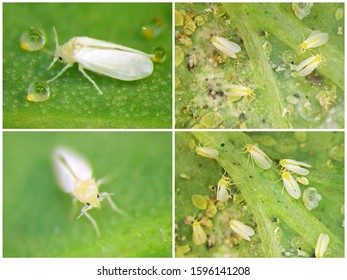Tobacco Whitefly: (52, 35, 163, 98), (226, 200, 263, 249), (216, 81, 263, 116), (208, 27, 248, 64), (301, 28, 337, 57), (298, 52, 330, 84), (238, 143, 269, 174), (274, 174, 304, 197), (188, 221, 208, 249)
